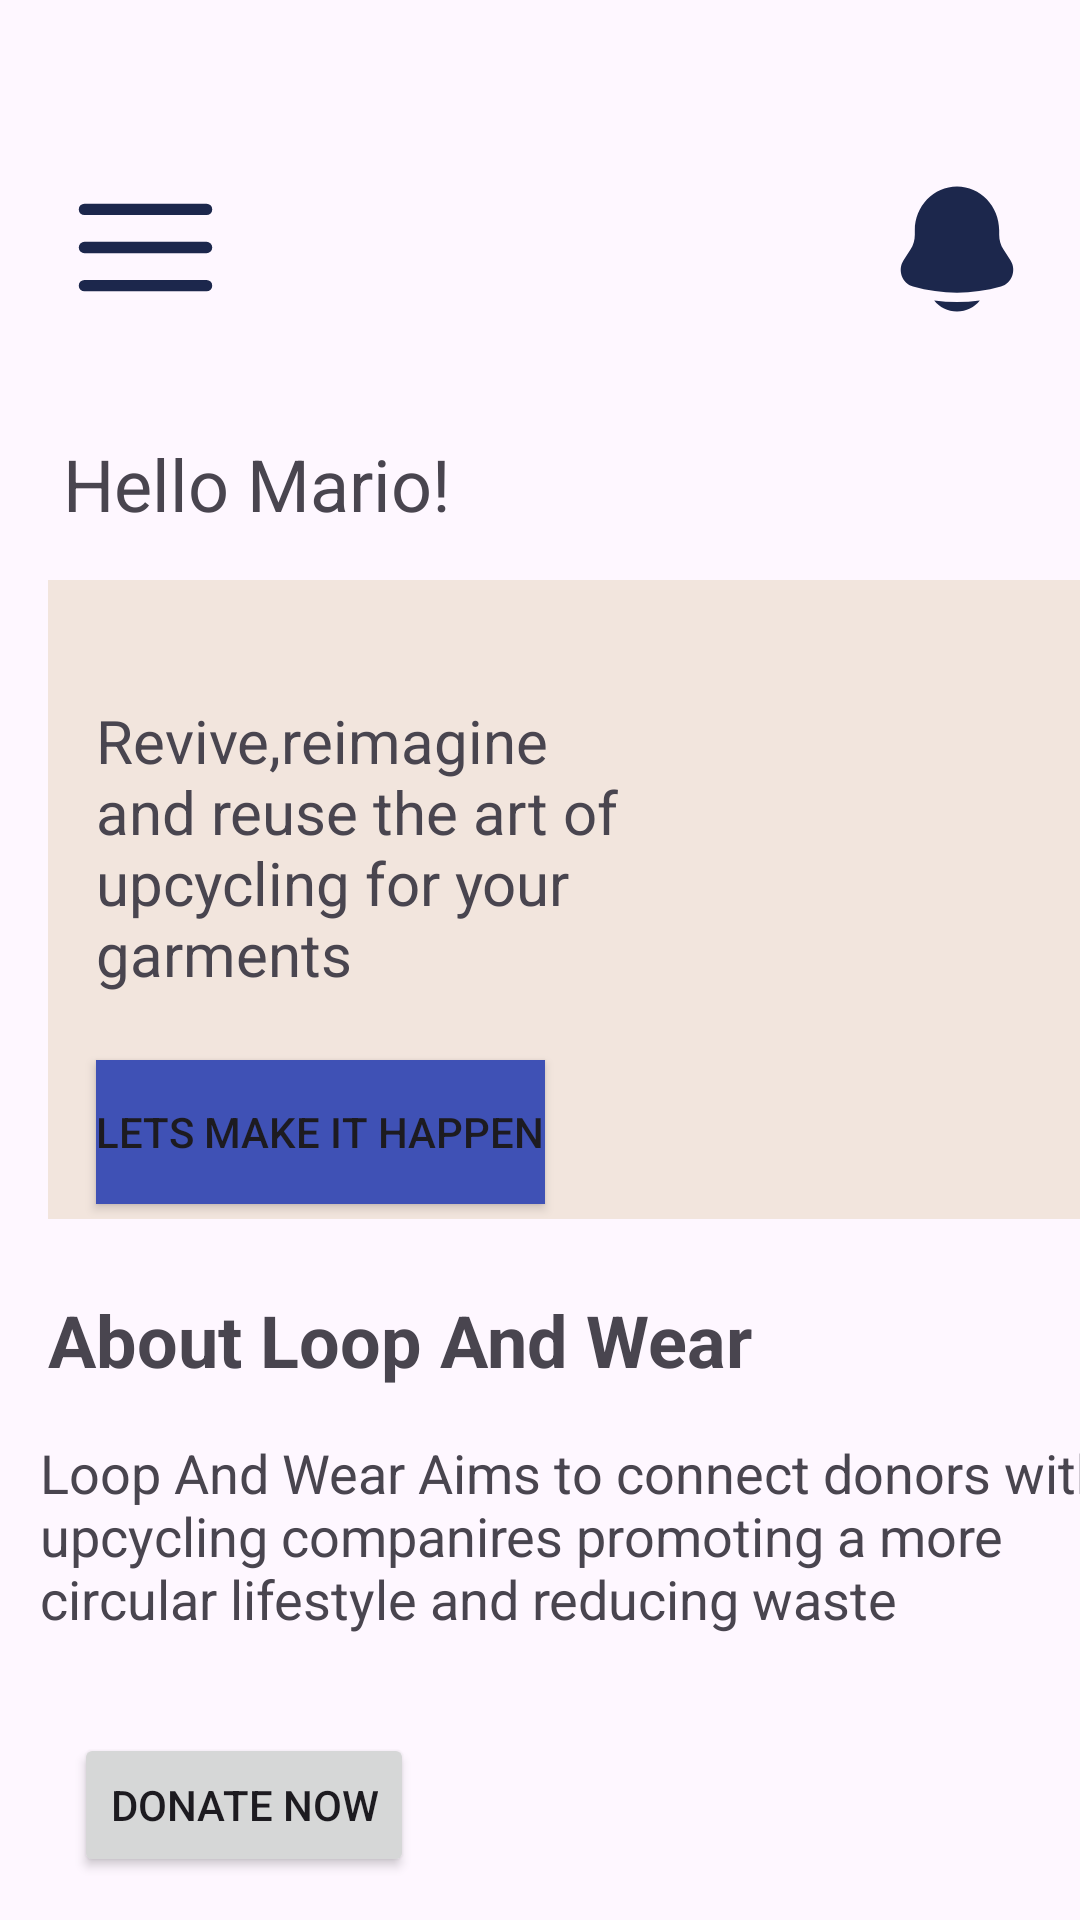

Icons on this 1080w x 1920h Android screen, each with its box as (x1, y1, x2, y2):
bell: (900, 186, 1014, 312)
hamburger menu: (78, 203, 213, 292)
